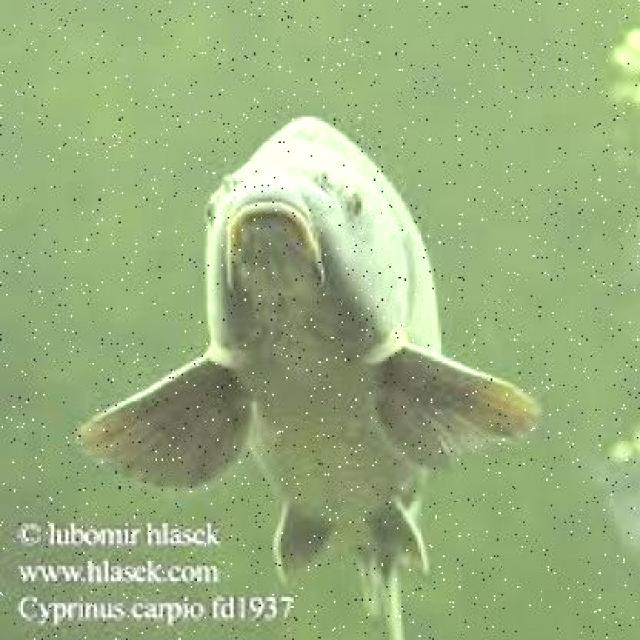ikan-mas: (93, 90, 507, 578)
